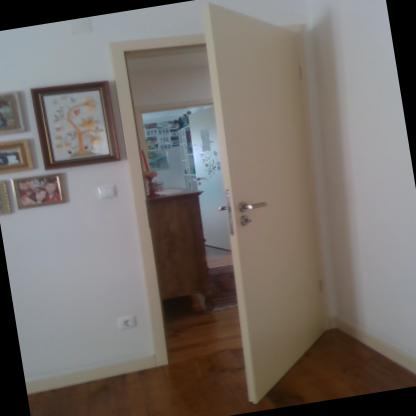semi: (102, 0, 371, 398)
